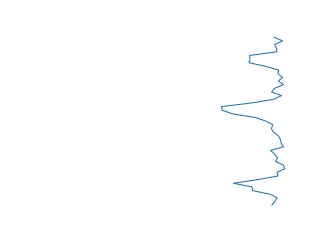underwaterNaturalLevee: (218, 33, 287, 211)
